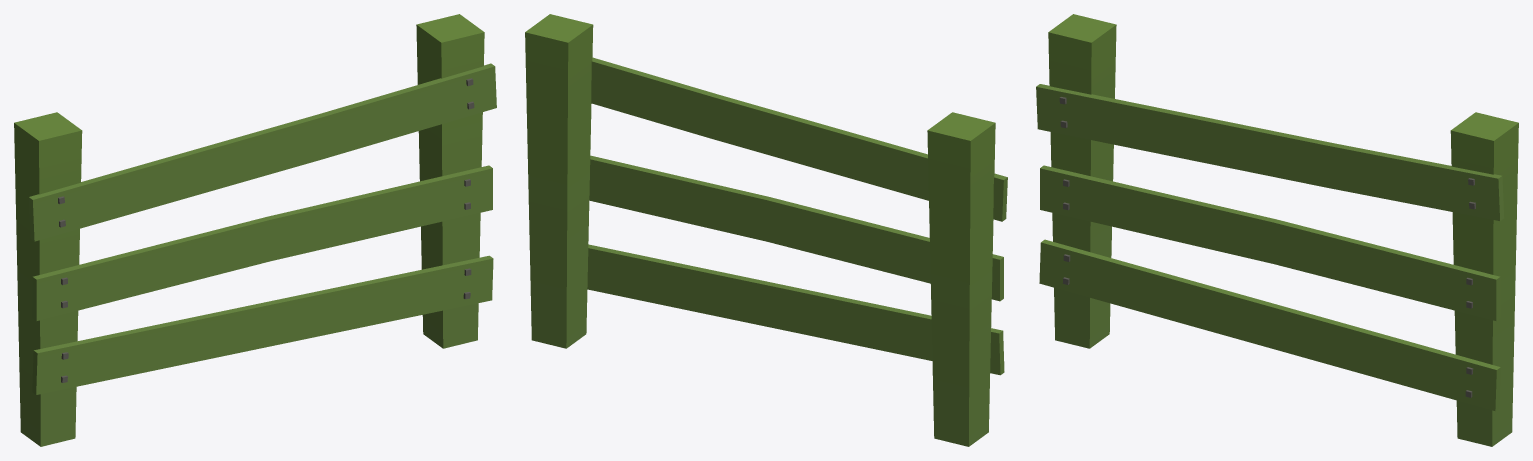
Rendered from Fence_02.fbx.
The picture shows the model from 3 angles, left to right: view 1: azimuth 30°, elevation 25°; view 2: azimuth 150°, elevation 25°; view 3: azimuth 330°, elevation 25°; orthographic projection.
Parts seen in each view (by area): view 1: Fence_02; view 2: Fence_02; view 3: Fence_02.
Boxes of the visible parts, left/top/right/bottom form: Fence_02: left=14, top=14, right=496, bottom=446; Fence_02: left=525, top=14, right=1007, bottom=446; Fence_02: left=1036, top=14, right=1518, bottom=446.
Size of the model in its own units: 1.73 by 1.1 by 0.1903.
